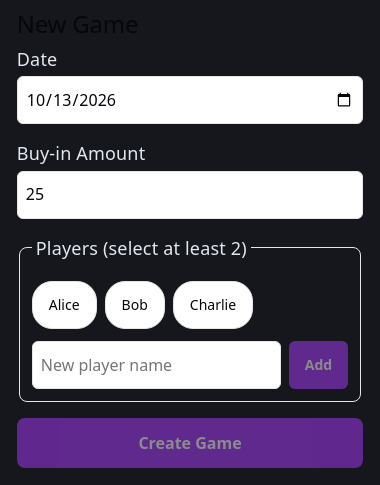
Test case: GameCreateForm › submit button is disabled until 2 players are selected
This screenshot has width=380, height=485.
Expected: the button "Create Game" is disabled, top-left (17, 418), bottom-right (363, 468)
Note: Select one player
Click the button "Alice": point(64, 305) top-left (32, 281), bottom-right (97, 329)
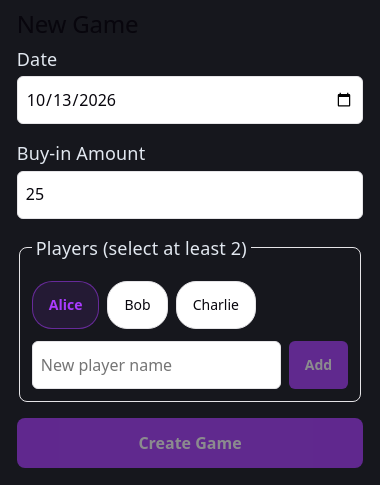
Expected: the button "Create Game" is disabled, top-left (17, 418), bottom-right (363, 468)
Note: Select second player
Click the button "Bob": point(138, 305) top-left (108, 281), bottom-right (168, 329)
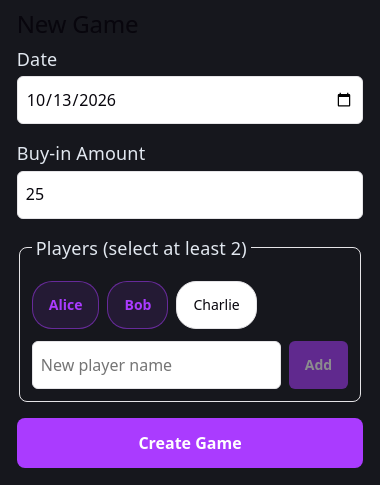
Expected: the button "Create Game" is enabled, top-left (17, 418), bottom-right (363, 468)
